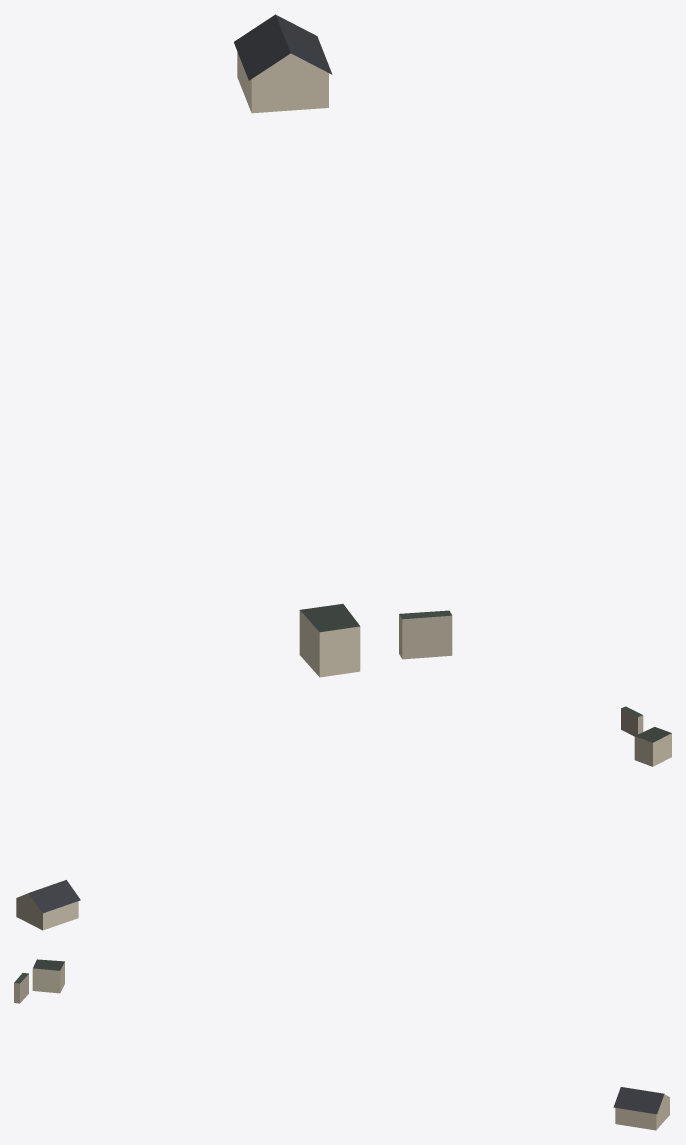
3 renders of one model, top to bottom at view 1: azimuth 30°, elevation 25°; view 2: azimuth 150°, elevation 25°; view 3: azimuth 270°, elevation 25°, orthographic. The views are drawn at different scales.
Visible parts, largest first — view 1: tuile; view 2: tuile; view 3: tuile.
Part boxes in pixels (left/top/right/bottom): tuile: left=234, top=14, right=452, bottom=677; tuile: left=16, top=706, right=671, bottom=930; tuile: left=14, top=959, right=669, bottom=1130.
Size of the model in its own units: 77.76 by 7.37 by 143.
